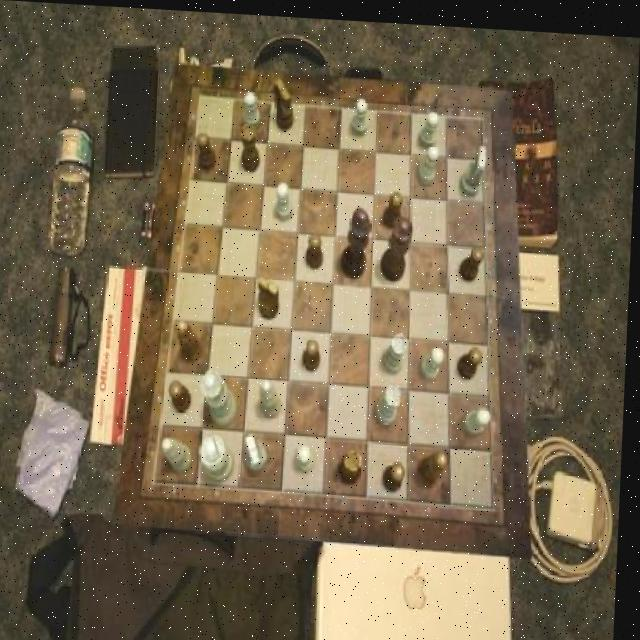bishop: (178, 317, 207, 360), (423, 445, 451, 482)
black-bishop: (343, 203, 373, 276)
black-king: (275, 76, 297, 128), (259, 271, 283, 316)
black-knight: (197, 129, 219, 169), (462, 241, 487, 276), (460, 342, 485, 375), (386, 456, 410, 488), (172, 378, 196, 410), (308, 229, 327, 266), (385, 188, 404, 225), (306, 333, 325, 368)
black-pawn: (381, 211, 415, 278)
black-queen: (240, 122, 262, 171), (342, 446, 367, 482)
black-rook: (165, 436, 198, 471), (261, 376, 285, 416)
white-bishop: (202, 432, 239, 481)
white-king: (462, 139, 488, 192), (249, 431, 273, 470)
white-knight: (420, 140, 442, 181), (425, 341, 449, 376), (467, 401, 495, 430), (420, 106, 440, 144), (243, 89, 262, 127), (279, 180, 297, 218), (351, 94, 369, 132), (299, 441, 318, 469)
white-pawn: (203, 366, 242, 423)
white-queen: (380, 381, 406, 422), (386, 328, 411, 370)
